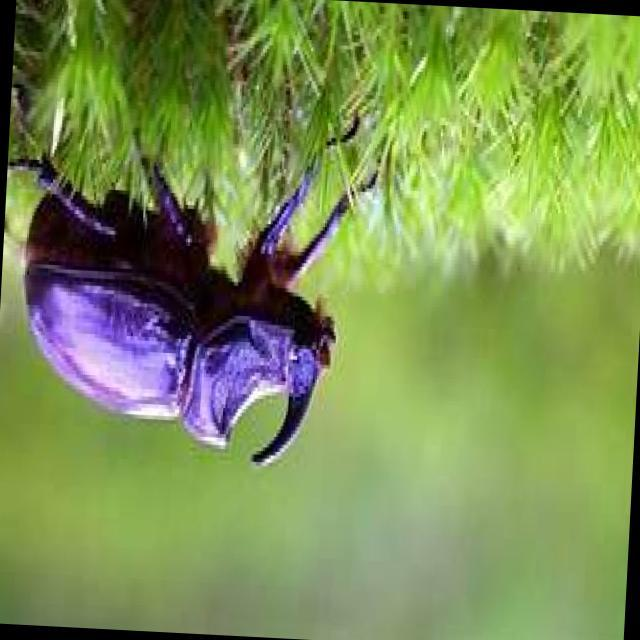Rhino-beetle: (7, 132, 380, 490)
